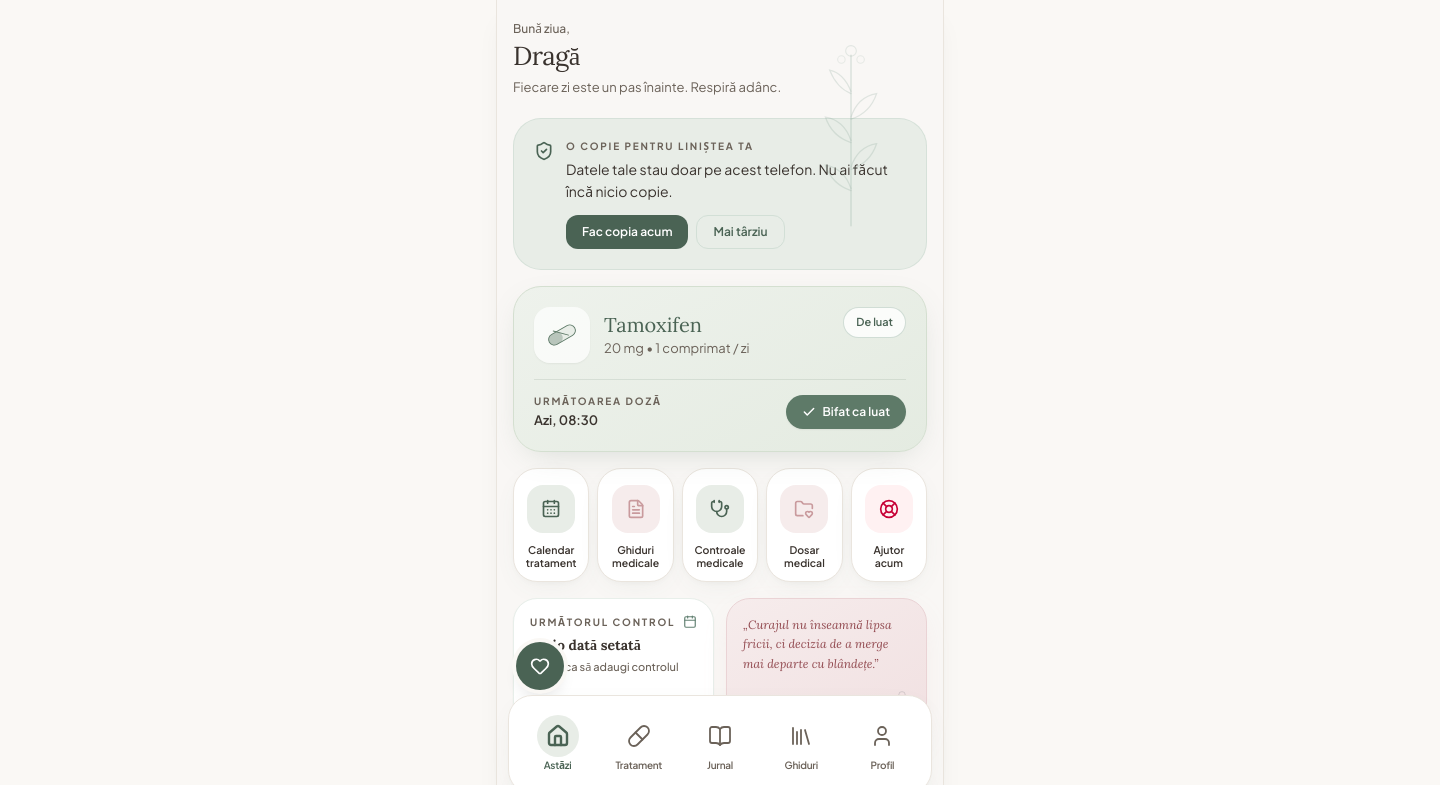
it: Pe ecran › Astăzi arată cardul; „Fac copia acum” deschide „Siguranța datelor”
The width and height of the screenshot is (1440, 785).
Check: the text "Datele tale stau doar pe acest telefon. Nu ai făcut încă nicio copie." is shown, box [566,158,906,203]
Click the button "Fac copia acum" at x=627, y=232, box [566,215,688,249]
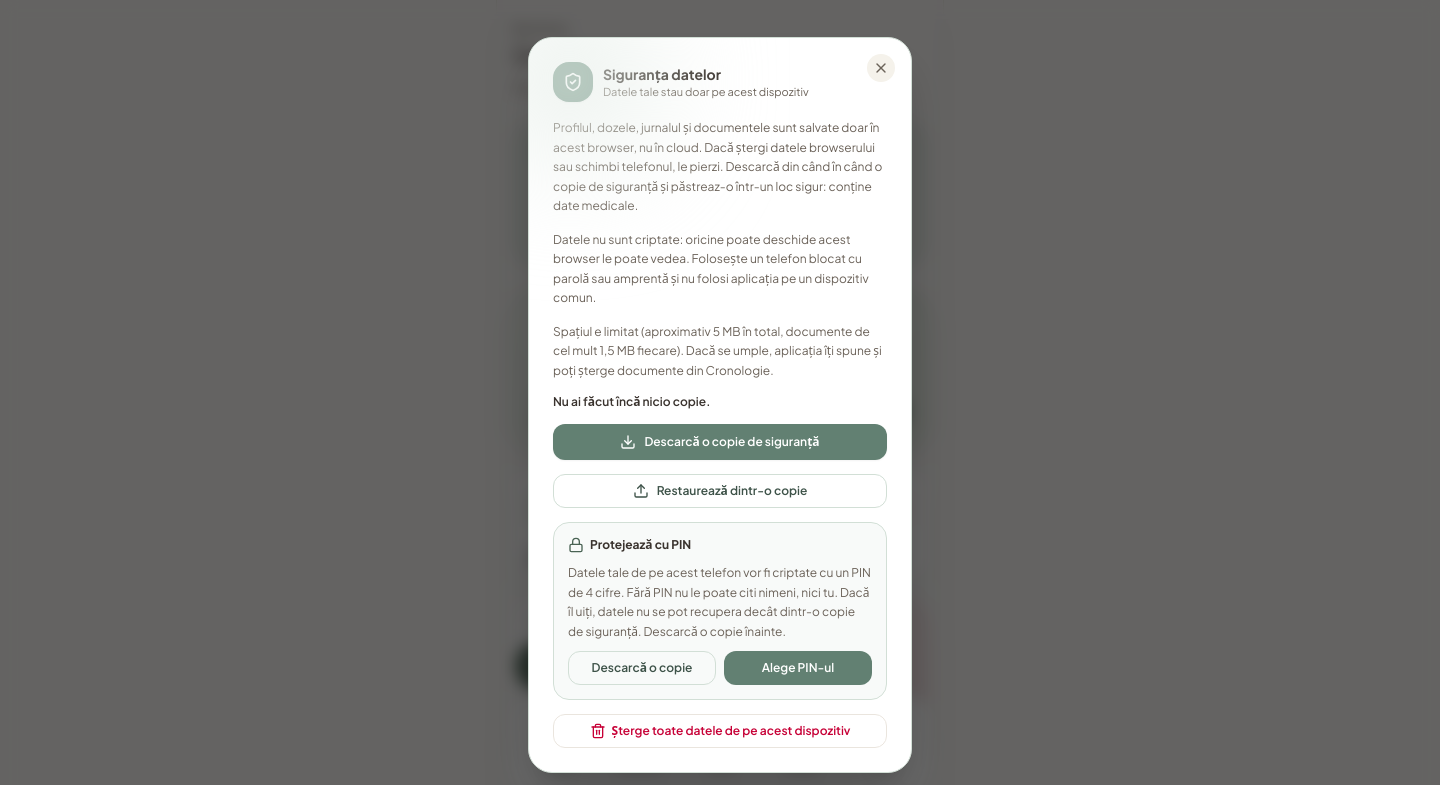
Check: the heading "Siguranța datelor" is shown, box [603,65,721,83]
